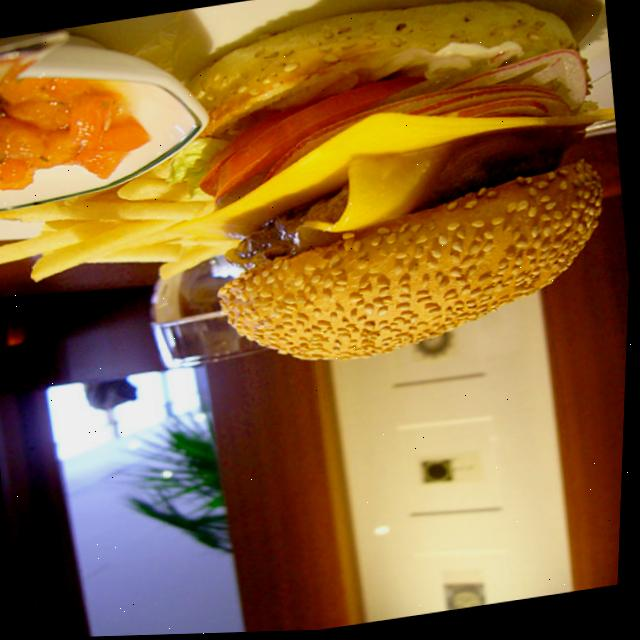汉堡快餐: (148, 0, 640, 405)
炸货点心: (0, 143, 249, 314)
